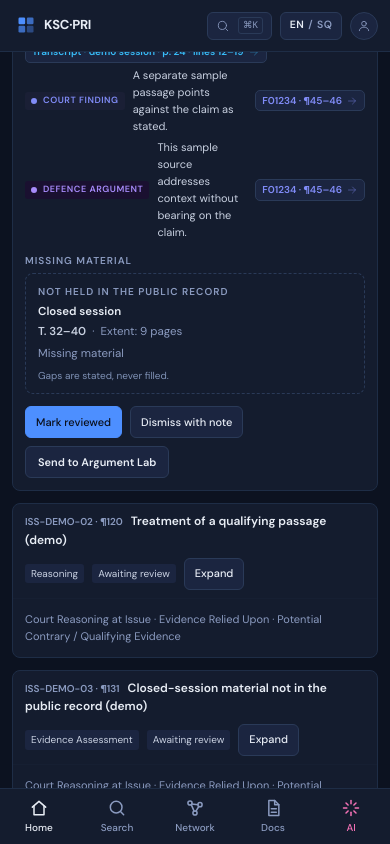
Test: Phase 5B visual-parity remediation › appeal issues expand, take a review state and keep the will-not-do card
The image size is (390, 844).
(page scrolled)
Click the button "Mark reviewed": (74, 422) [25,406,122,438]
(page scrolled)
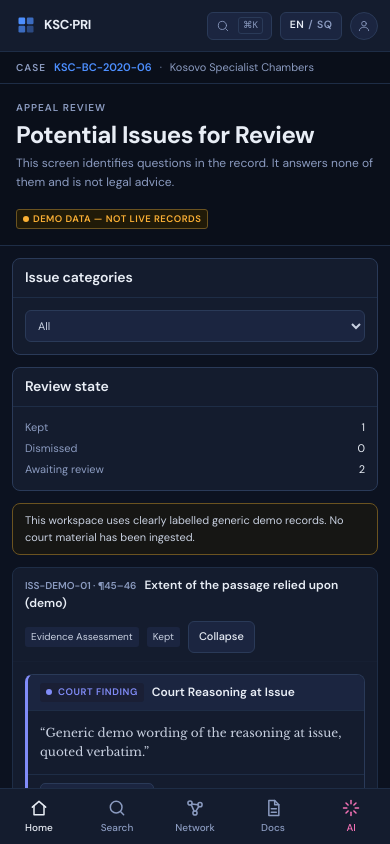
Expected: the text "Kept" below "Review state" is shown, [25,420,48,434]
Select "Sentencing" in the dropdown: (195, 326) [25,310,365,342]
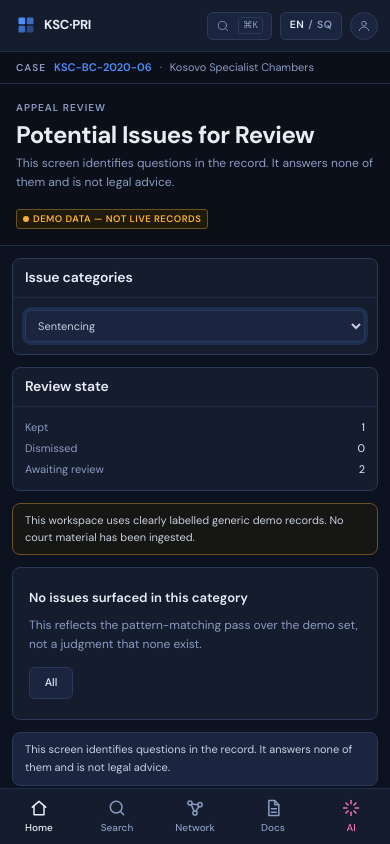
Now the text "No issues surfaced in this category" is shown, box [29,588,248,608]
